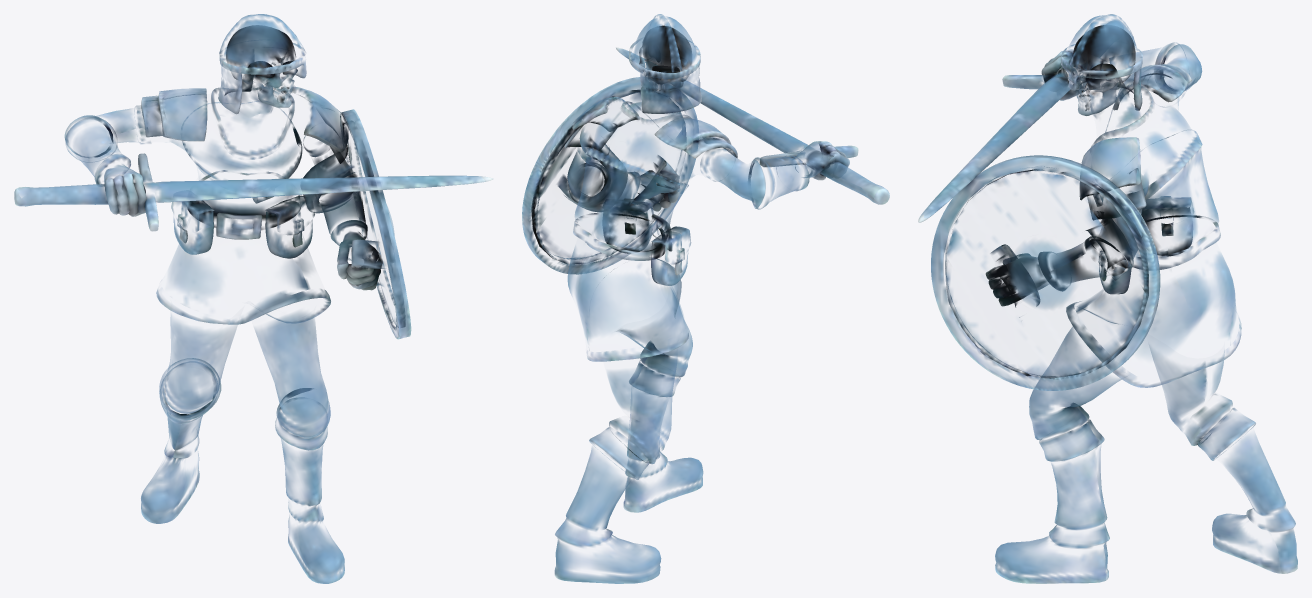
File: MZ4250 - Sword Wraith Warrior.glb
The picture shows the model from 3 angles, left to right: view 1: azimuth 30°, elevation 25°; view 2: azimuth 150°, elevation 25°; view 3: azimuth 270°, elevation 25°; orthographic projection. The views are drawn at different scales.
Visible parts, largest first — view 1: Scull geant fix02.001; view 2: Scull geant fix02.001; view 3: Scull geant fix02.001.
Part boxes in pixels (x1,y1,x2,y2): Scull geant fix02.001: (14,14,493,583); Scull geant fix02.001: (522,14,889,583); Scull geant fix02.001: (918,14,1297,583).
Size of the model in its own units: 70.87 by 94.64 by 59.38.
Materials: 1 (1 with a texture image).
